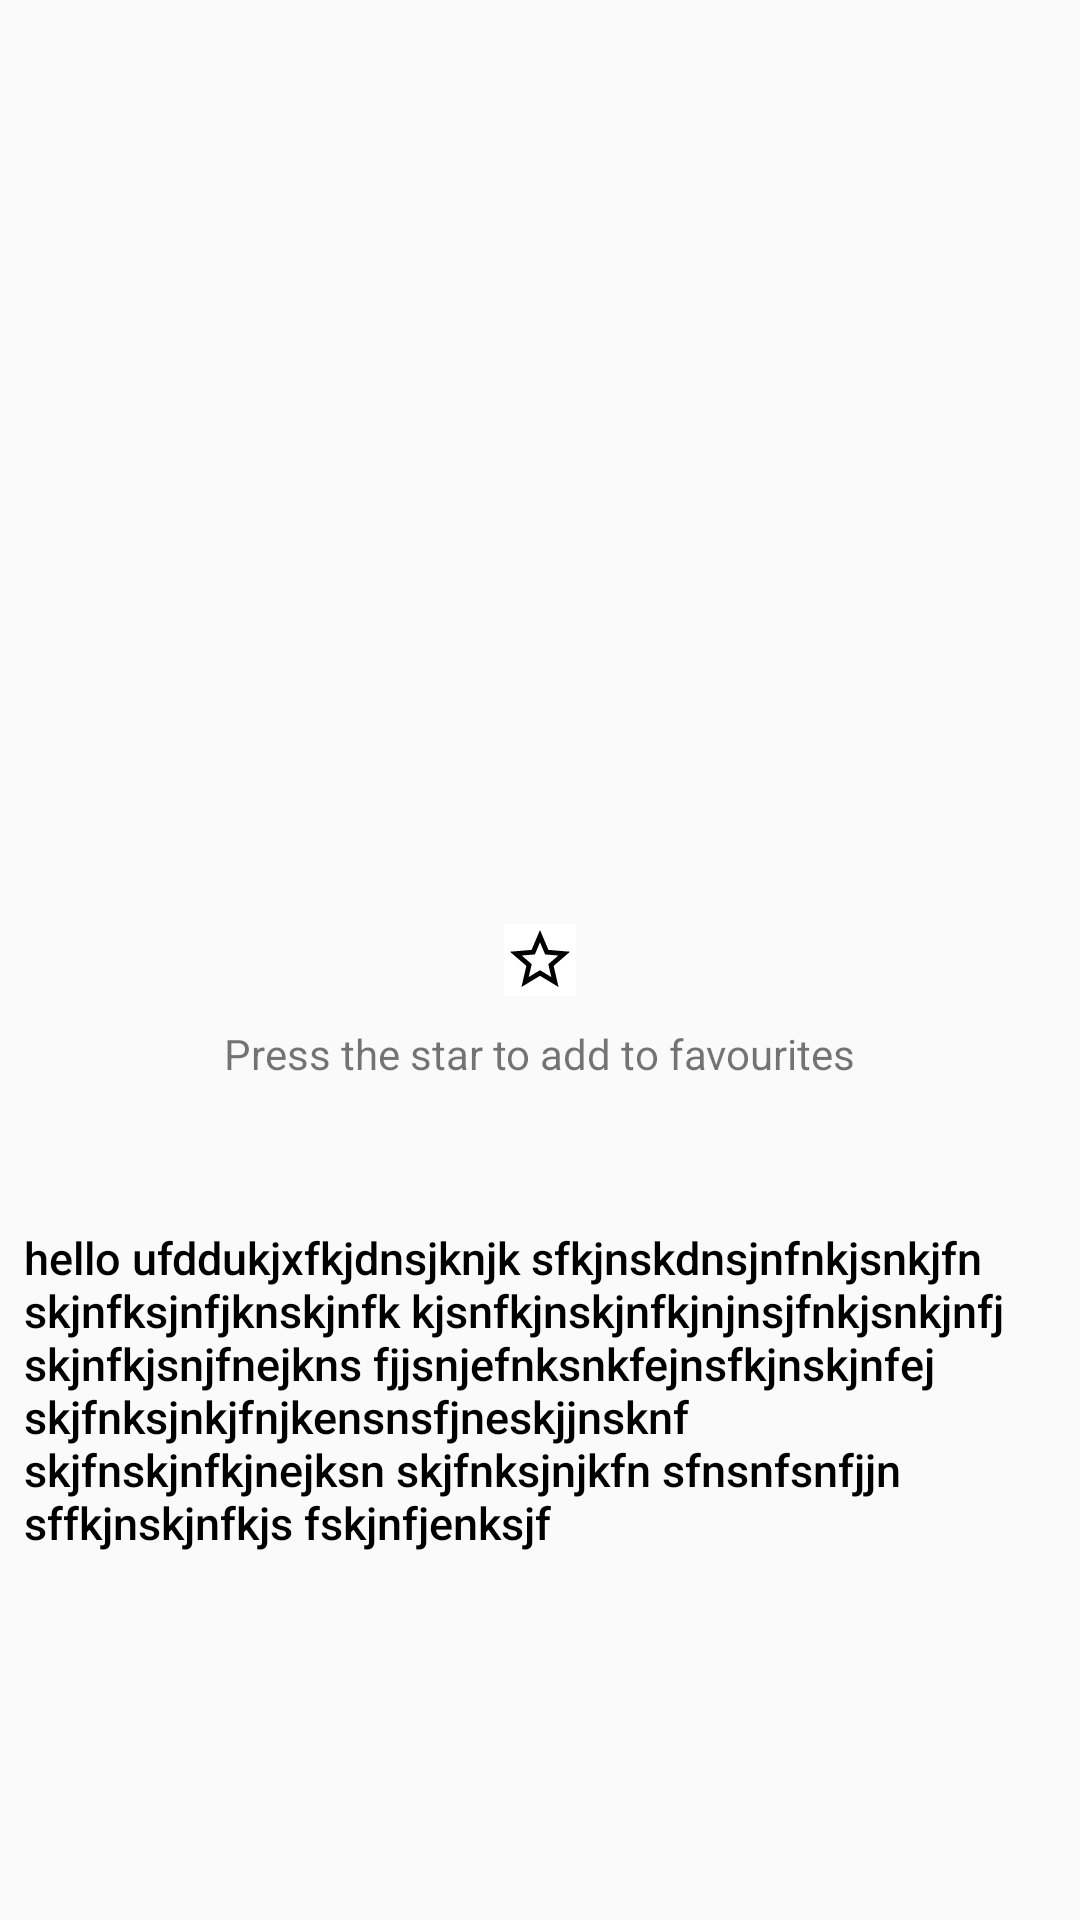

Point at icon controls on the screen. Image size 1080x1920, points as [x,y].
star border: [540,958]
